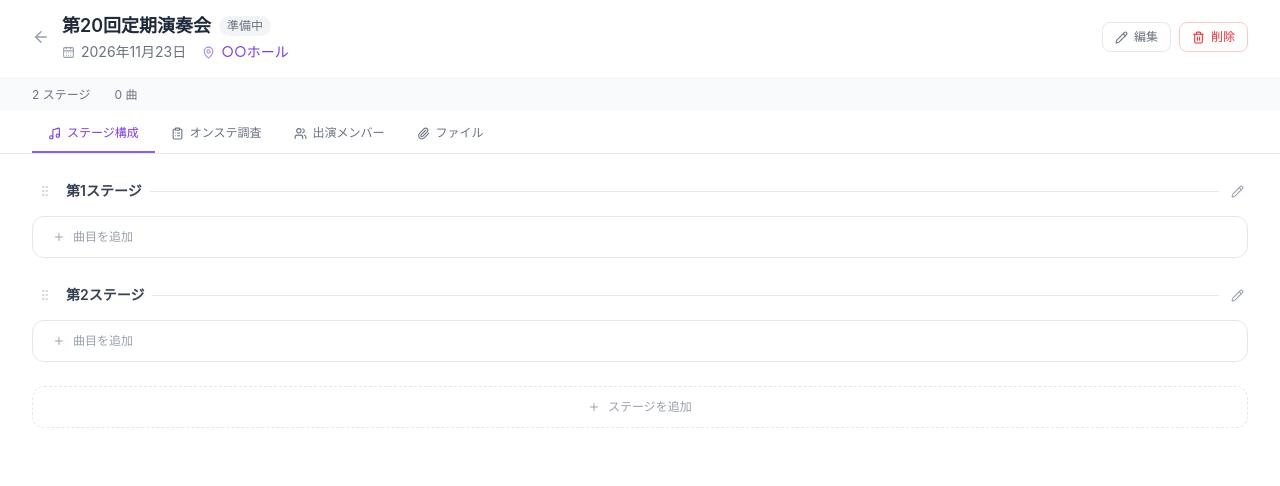
ConcertDetailPage（失敗の表示） › ステージ名の保存に失敗したらエラーを表示し、入力した名前を残す
The width and height of the screenshot is (1280, 486).
Click the button named "第1ステージの名前を編集" at (1238, 191), box top-left (1227, 180), bottom-right (1248, 202)
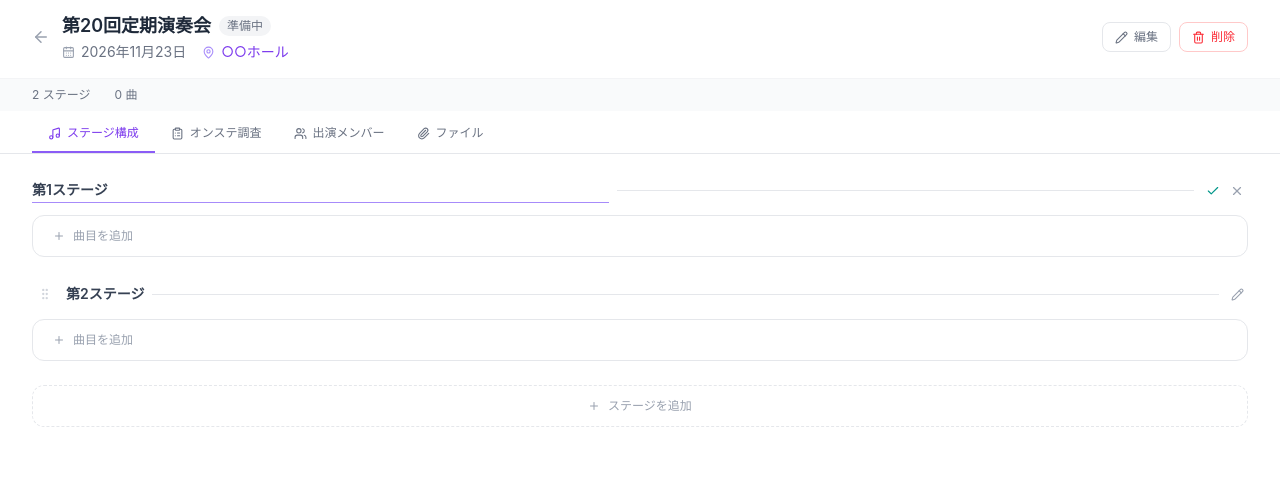
Replace the text in the field showing "第1ステージ" with "改称ステージ" at (320, 190), box top-left (32, 178), bottom-right (609, 203)
Then press Enter
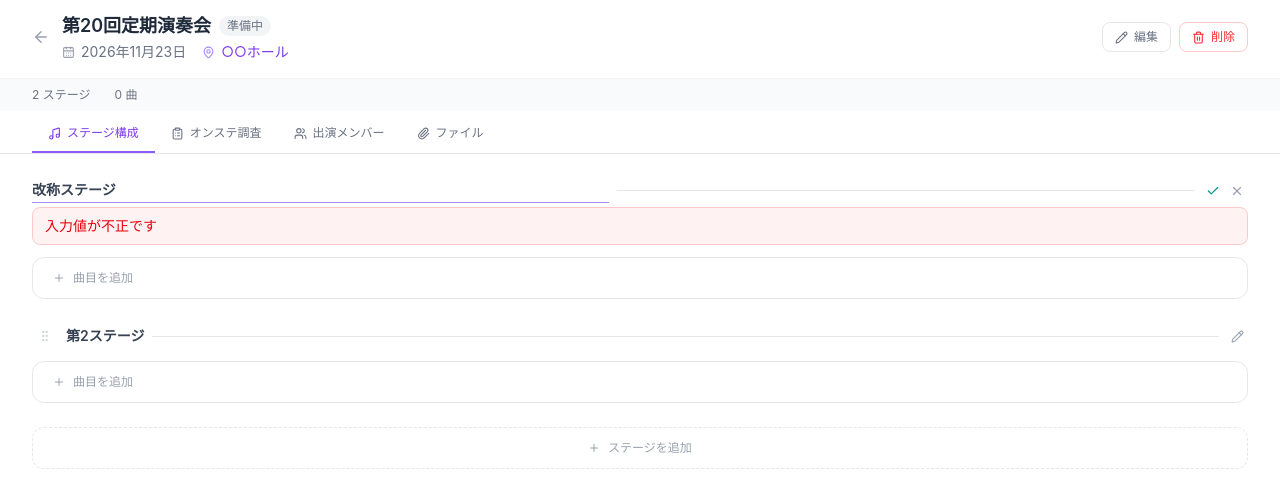
Now the message reads "入力値が不正です", box top-left (45, 217), bottom-right (157, 234)
